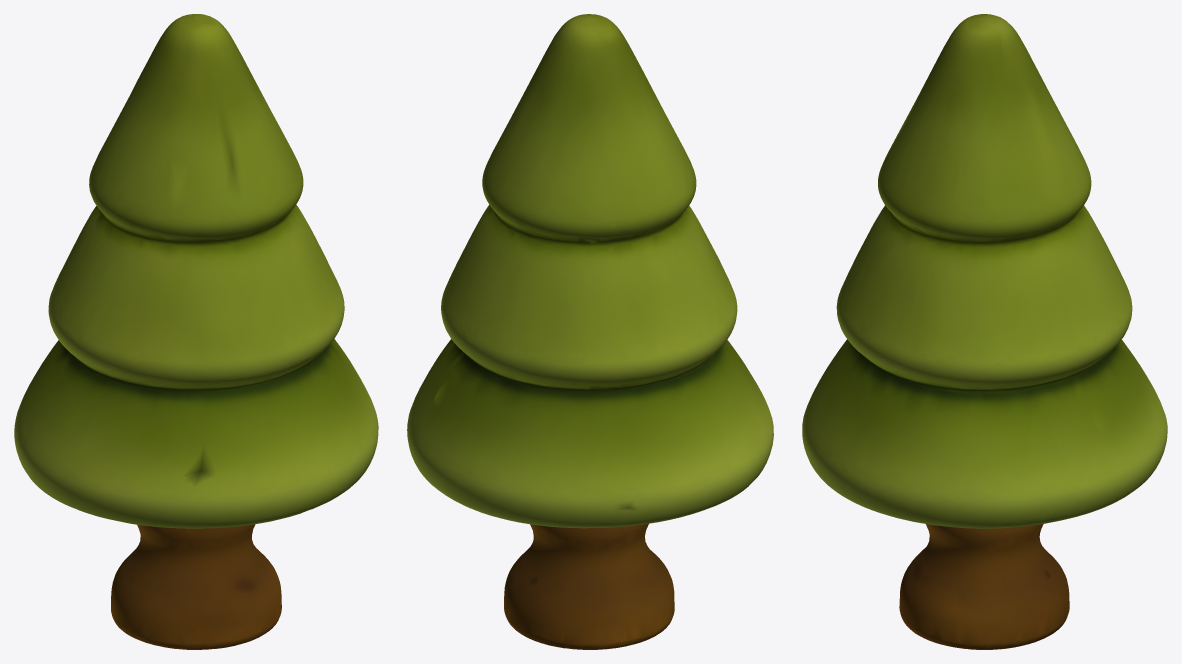
The model's file is tree.glb.
3 views of the same model, side by side, from view 1: azimuth 30°, elevation 25°; view 2: azimuth 150°, elevation 25°; view 3: azimuth 270°, elevation 25° (orthographic).
Visible parts, largest first — view 1: node_0; view 2: node_0; view 3: node_0.
Part boxes in pixels (x1,y1,x2,y2): node_0: [14, 14, 378, 649]; node_0: [407, 14, 773, 649]; node_0: [802, 14, 1167, 649].
Bounding box in the file's own units: 0.6515 × 1.17 × 0.6472.
Materials: 1 (1 with a texture image).
